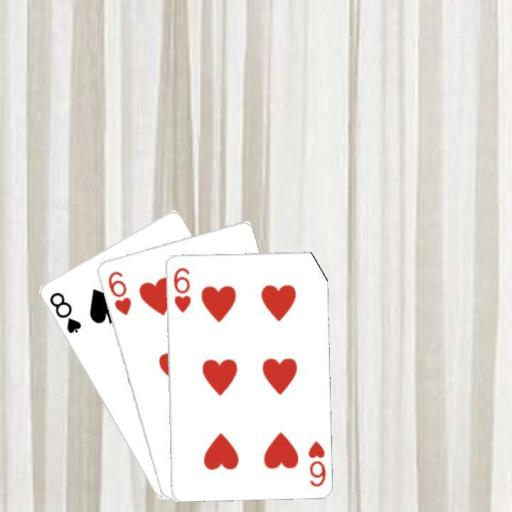6H: (105, 268, 132, 317), (170, 264, 192, 314), (305, 437, 326, 488)
8S: (46, 289, 83, 335)
